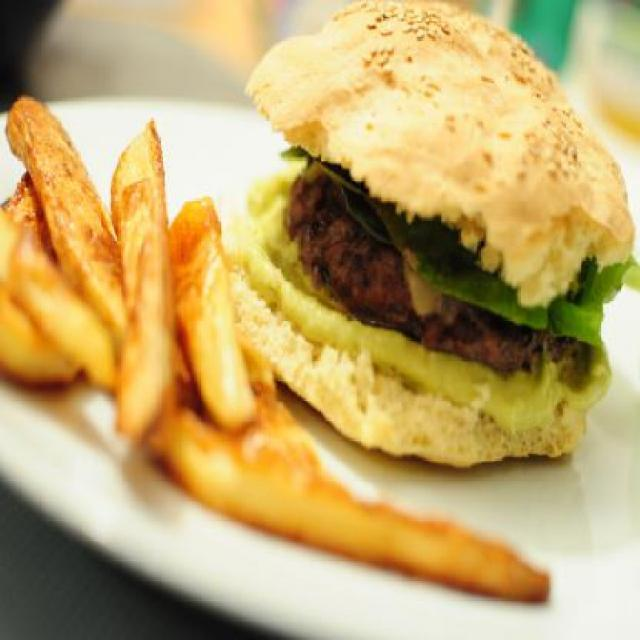Hamburger: (220, 1, 640, 468)
